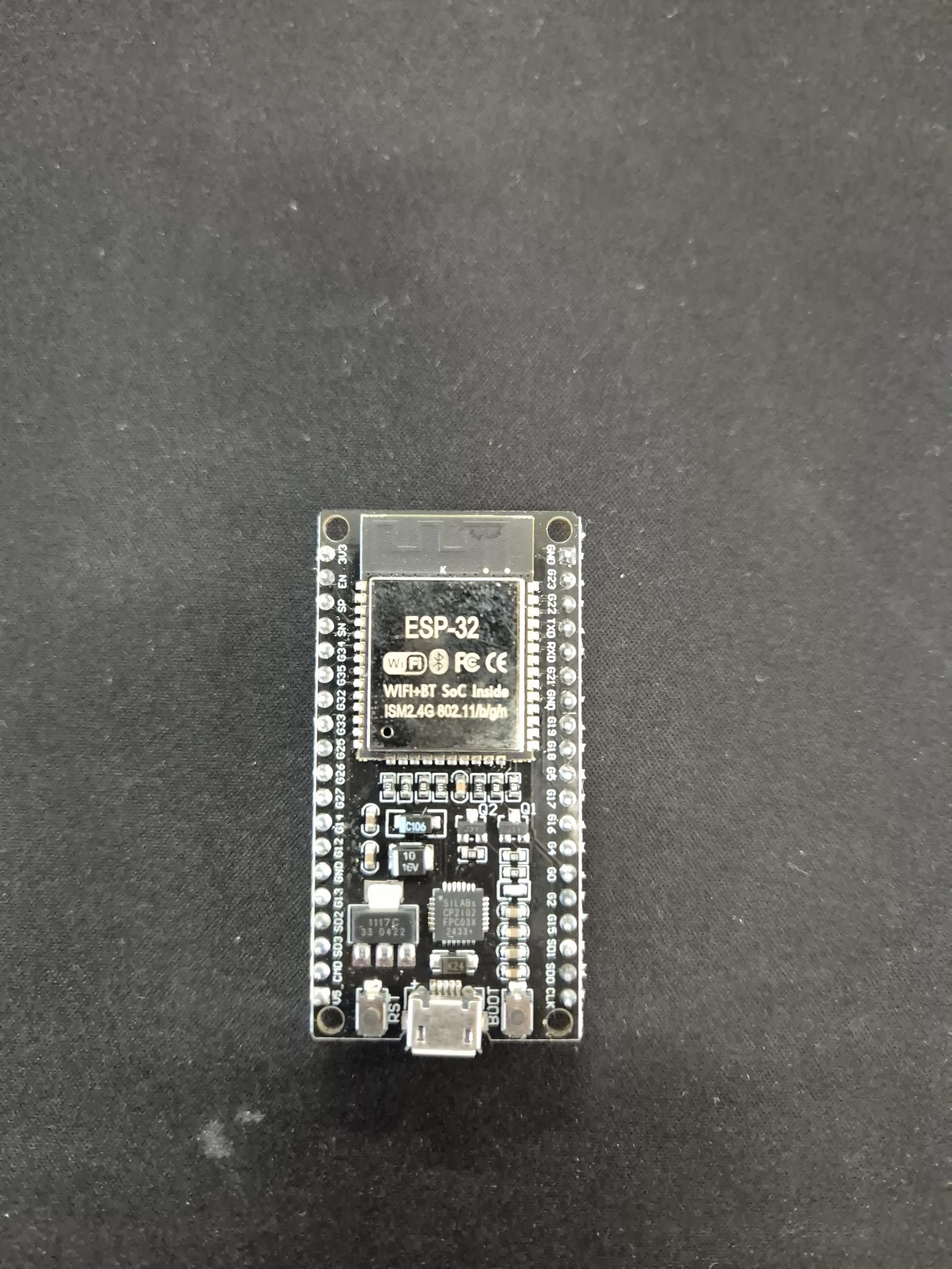esp32-dev: (311, 510, 583, 1056)
